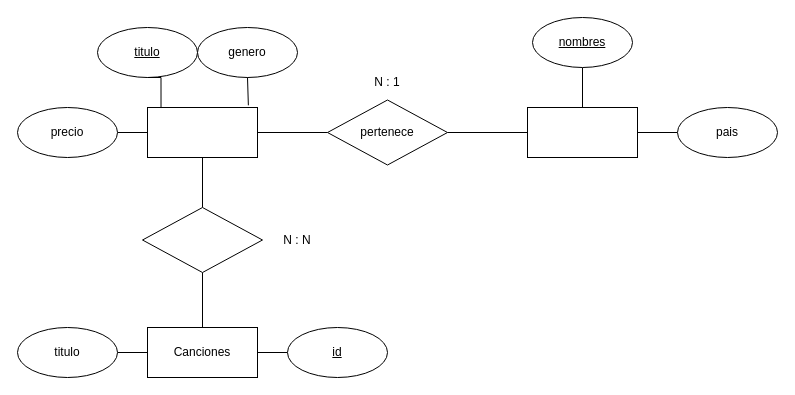
Image size: 795x395. Some labels were removed from this diagram. Each missing label, with the centre of its shape:
Cantante: point (582, 132)
Disco: point (202, 132)
tiene: point (202, 239)
